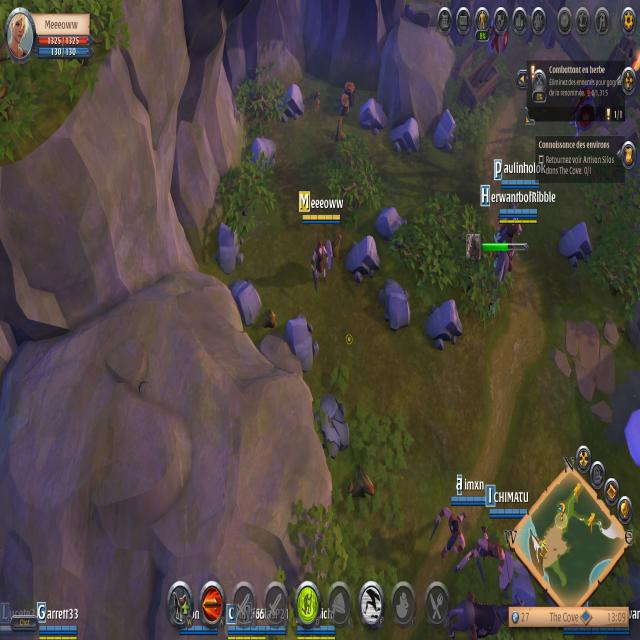broken stone: (315, 392, 351, 461)
stone: (424, 289, 465, 353), (285, 313, 320, 375), (344, 231, 381, 288), (558, 214, 594, 271), (378, 275, 412, 333), (229, 274, 261, 330), (214, 220, 246, 274), (374, 198, 408, 243), (388, 116, 422, 160), (358, 92, 388, 137), (249, 130, 277, 174), (278, 80, 306, 124), (432, 107, 457, 152)
